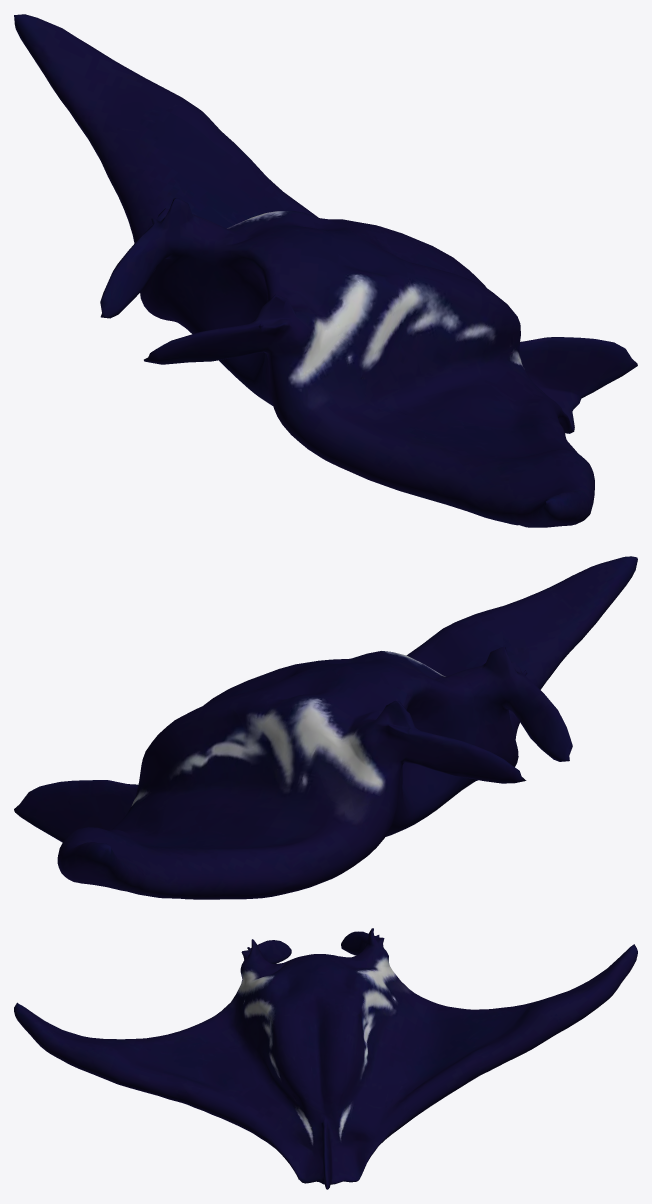
File: manta.glb
3 views of the same model, one above another, from view 1: azimuth 30°, elevation 25°; view 2: azimuth 150°, elevation 25°; view 3: azimuth 270°, elevation 25° (orthographic). The views are drawn at different scales.
Visible parts, largest first — view 1: tripo_node_a215d2b4-7d48-4857-a336-7551402cdfce; view 2: tripo_node_a215d2b4-7d48-4857-a336-7551402cdfce; view 3: tripo_node_a215d2b4-7d48-4857-a336-7551402cdfce.
Part boxes in pixels (bbox=[...]): tripo_node_a215d2b4-7d48-4857-a336-7551402cdfce: bbox=[14, 14, 637, 527]; tripo_node_a215d2b4-7d48-4857-a336-7551402cdfce: bbox=[14, 556, 637, 899]; tripo_node_a215d2b4-7d48-4857-a336-7551402cdfce: bbox=[14, 928, 637, 1189].
Bounding box in the file's own units: 0.5663 × 0.2852 × 1.
1 material, 1 textured.
